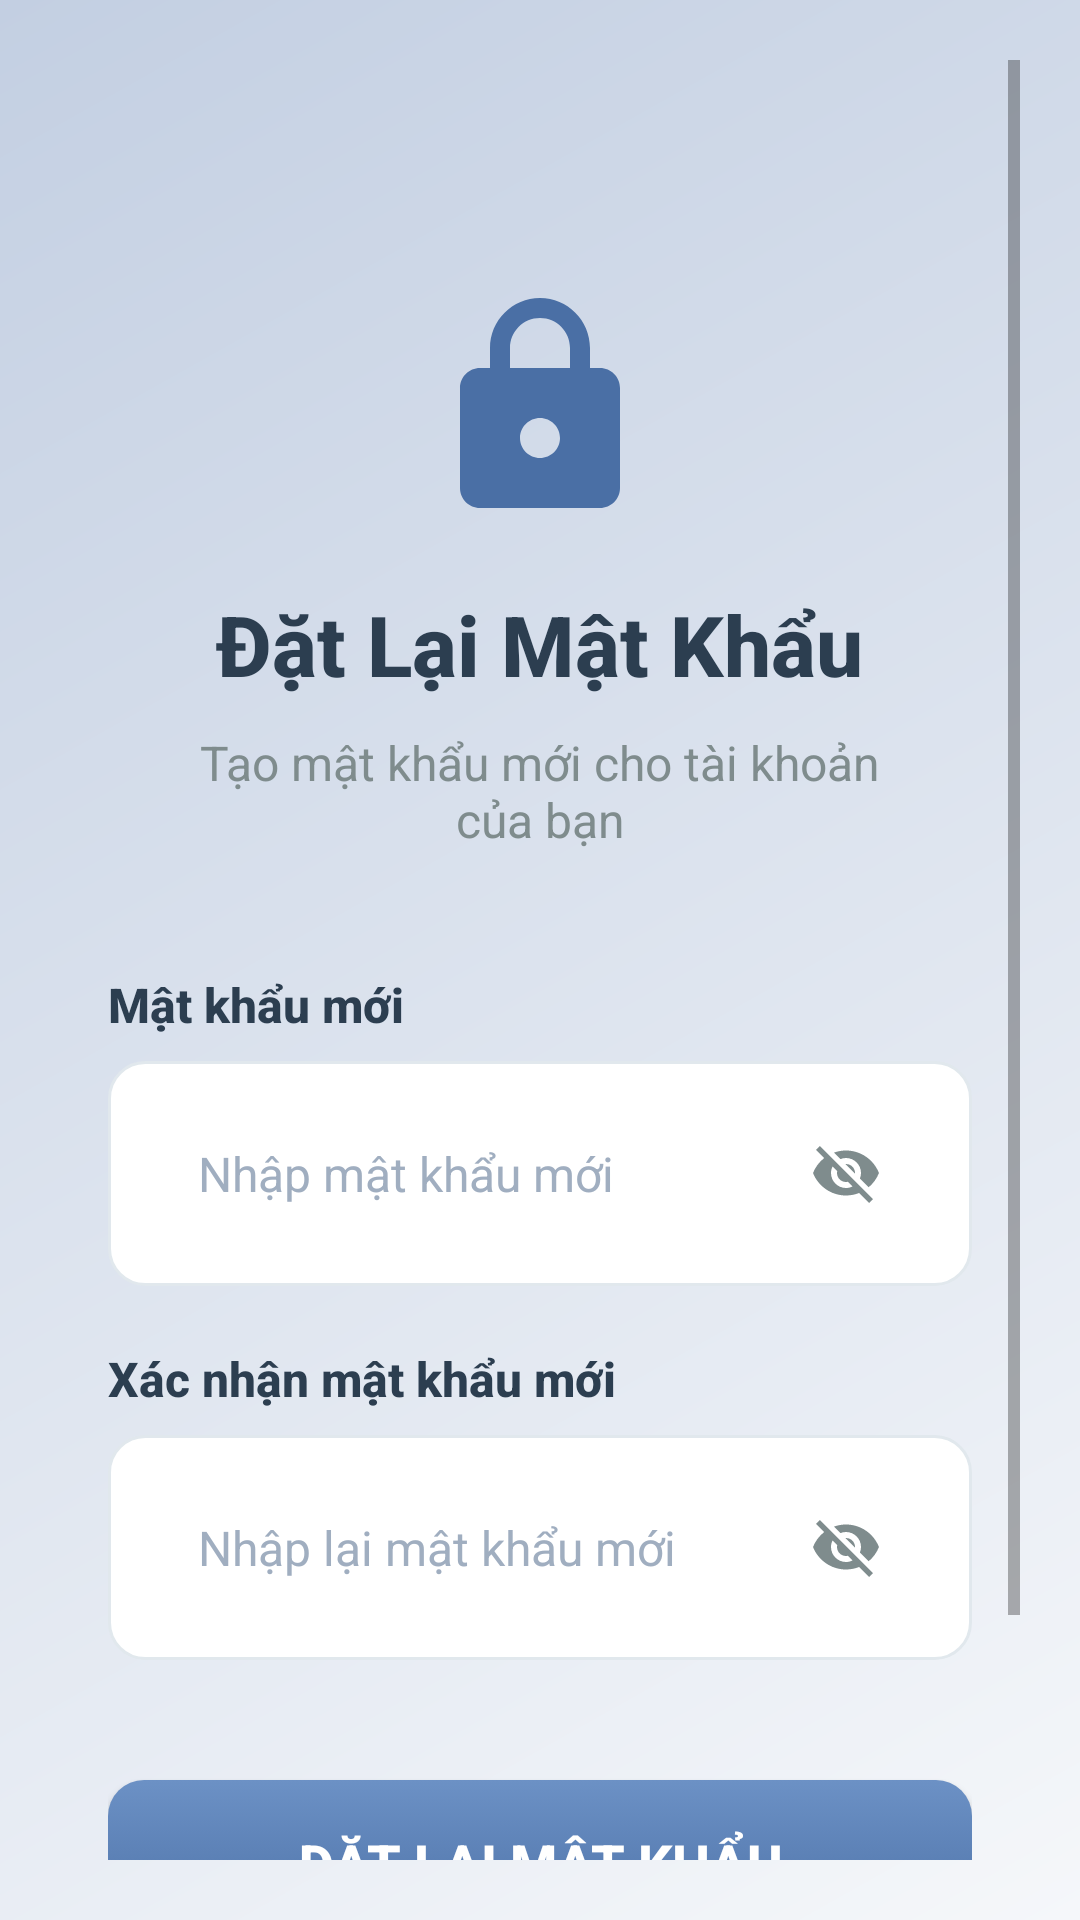

Screen size 1080px×1920px. Icon name, then its box in pixels as [left=x1, top=y1, right=x2, bottom=y2]:
Reset password: [left=460, top=298, right=620, bottom=508]
Toggle confirm password visibility: [left=813, top=1520, right=879, bottom=1577]
Toggle password visibility: [left=813, top=1146, right=879, bottom=1203]
